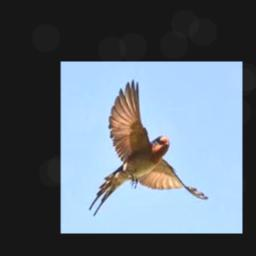Swallow: (89, 79, 208, 216)
